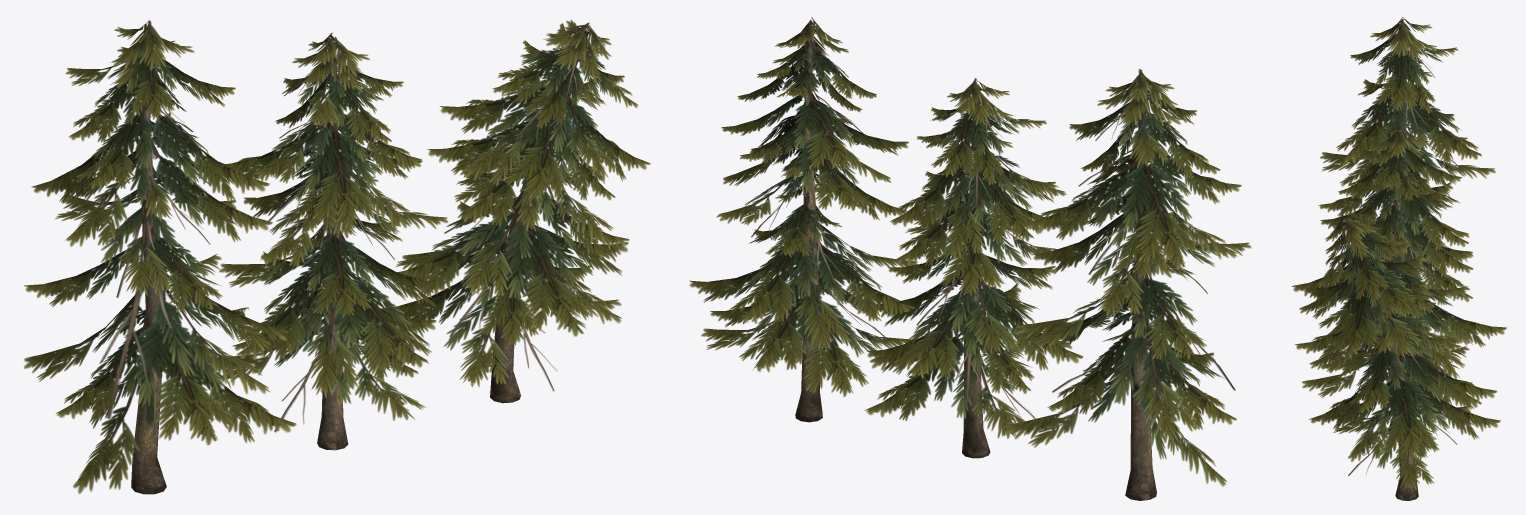
3 renders of one model, left to right at view 1: azimuth 30°, elevation 25°; view 2: azimuth 150°, elevation 25°; view 3: azimuth 270°, elevation 25°, orthographic. The views are drawn at different scales.
Visible parts, largest first — view 1: Branches002, Branches001, Branches, Tree_bark002, Tree_bark, Tree_bark001; view 2: Branches002, Branches, Branches001, Tree_bark002, Tree_bark001, Tree_bark; view 3: Branches001, Branches, Branches002, Tree_bark001.
Part boxes in pixels (x1,y1,x2,y2): Branches002: (24, 20, 296, 494); Branches001: (381, 20, 650, 391); Branches: (209, 33, 447, 432); Tree_bark002: (131, 29, 166, 494); Tree_bark: (317, 40, 348, 450); Tree_bark001: (490, 27, 589, 403); Branches002: (1003, 69, 1251, 486); Branches: (864, 78, 1083, 438); Branches001: (689, 17, 917, 396); Tree_bark002: (1125, 76, 1156, 500); Tree_bark001: (795, 25, 822, 422); Tree_bark: (962, 84, 990, 458); Branches001: (1299, 211, 1500, 490); Branches: (1294, 124, 1506, 407); Branches002: (1291, 17, 1495, 345); Tree_bark001: (1343, 219, 1418, 500).
Bounding box in the file's own units: 4.54 × 3.42 × 1.99.
Materials: 2 (2 with a texture image).
